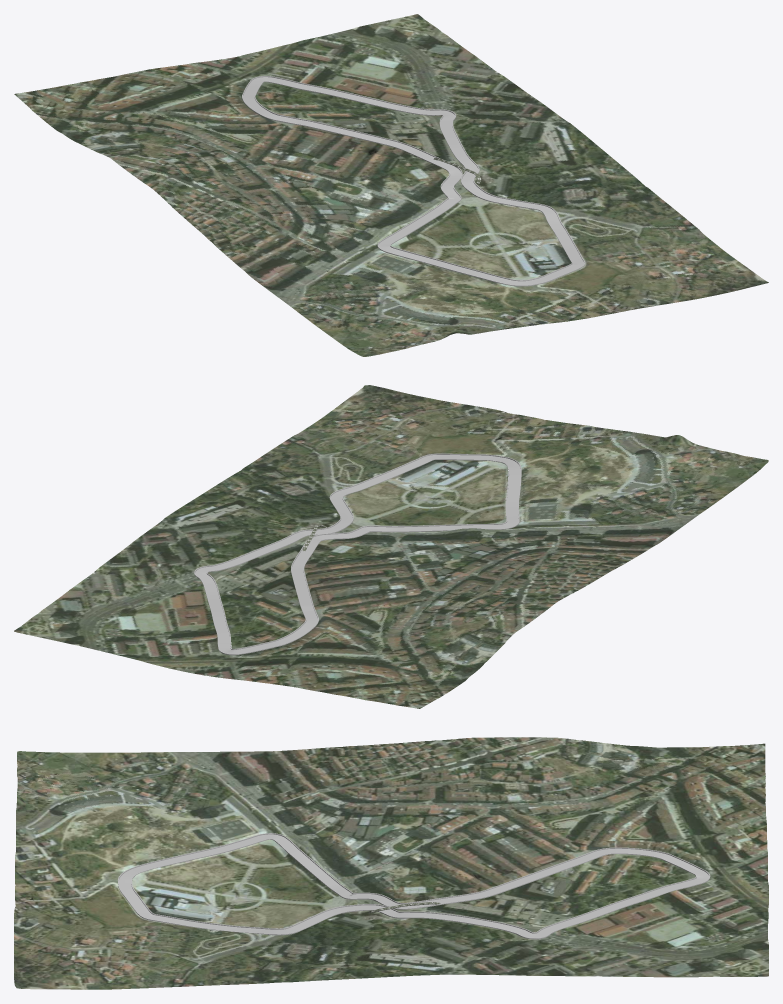
The model's file is terrenoOpCarretera.FBX.
The picture shows the model from 3 angles, top to bottom: view 1: azimuth 30°, elevation 25°; view 2: azimuth 150°, elevation 25°; view 3: azimuth 270°, elevation 25°; orthographic projection. The views are drawn at different scales.
Visible parts, largest first — view 1: terreno, carretera, margenCarretera; view 2: terreno, carretera, margenCarretera; view 3: terreno, carretera, margenCarretera.
Boxes of the visible parts, box(x1,y1,x2,y2) form: terreno: box(14, 14, 768, 356); carretera: box(243, 77, 584, 285); margenCarretera: box(242, 76, 585, 286); terreno: box(14, 385, 768, 708); carretera: box(195, 455, 520, 653); margenCarretera: box(194, 453, 521, 655); terreno: box(14, 737, 768, 989); carretera: box(119, 834, 709, 937); margenCarretera: box(118, 833, 710, 939).
Size of the model in its own units: 41654 by 3762 by 62520.
